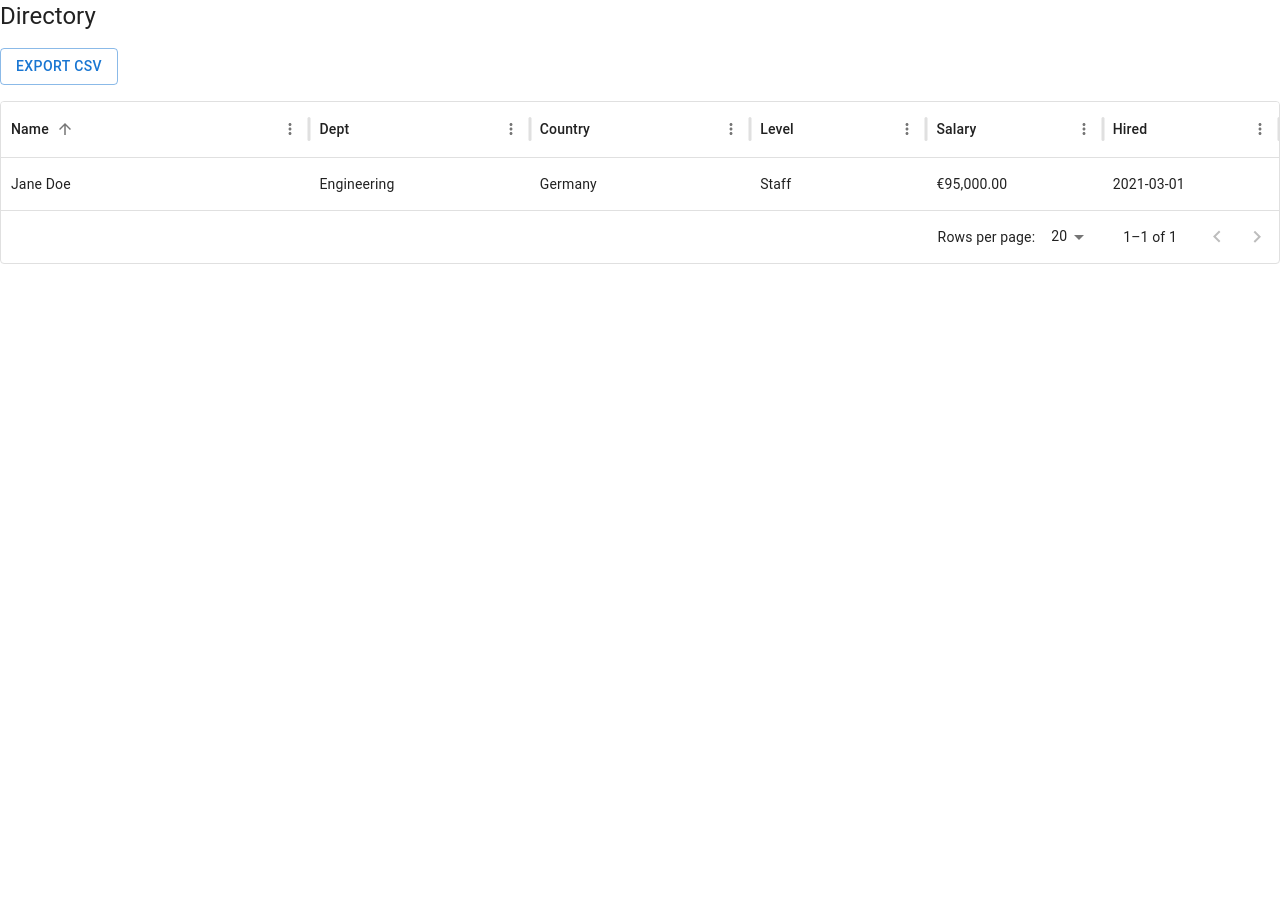
Test case: viewing an employee record from the directory › opens the detail panel populated with the clicked row data
This screenshot has width=1280, height=900.
Click the text "Jane Doe": (41, 184) [11,176,71,192]
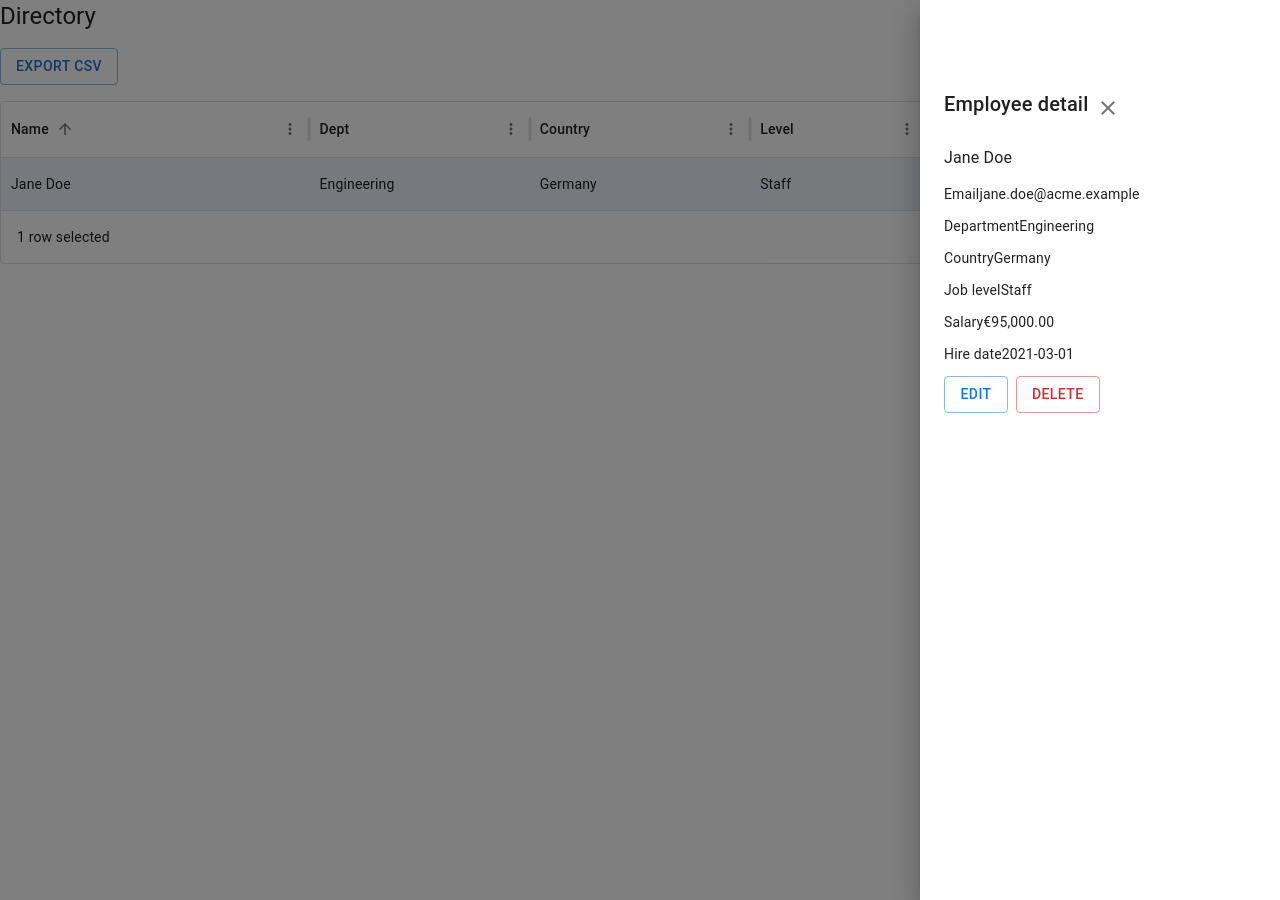
Check: the text "jane.doe@acme.example" is shown, box [979,184,1140,204]
